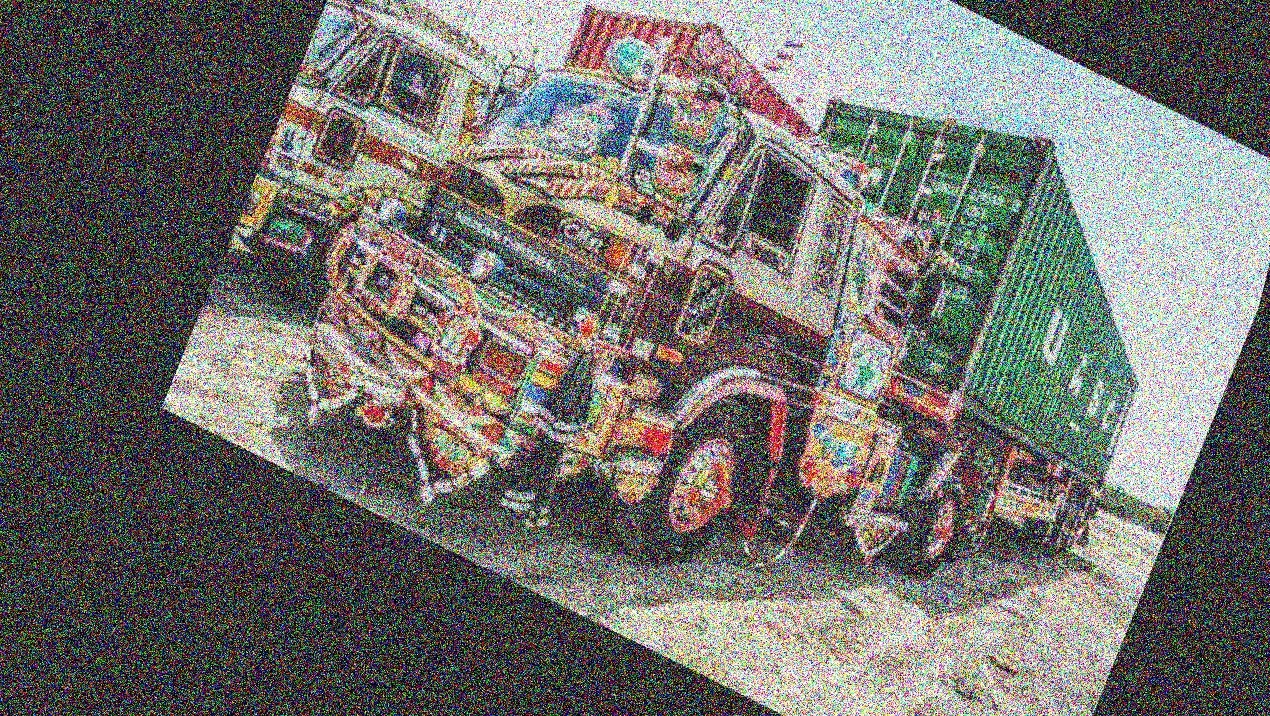truck: (218, 0, 1249, 716), (216, 0, 529, 350)
